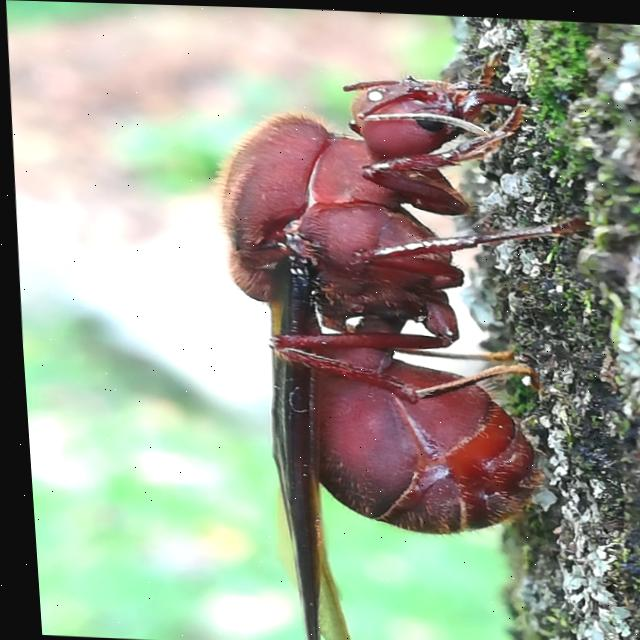Alive-Female-Alate: (194, 33, 610, 640)
